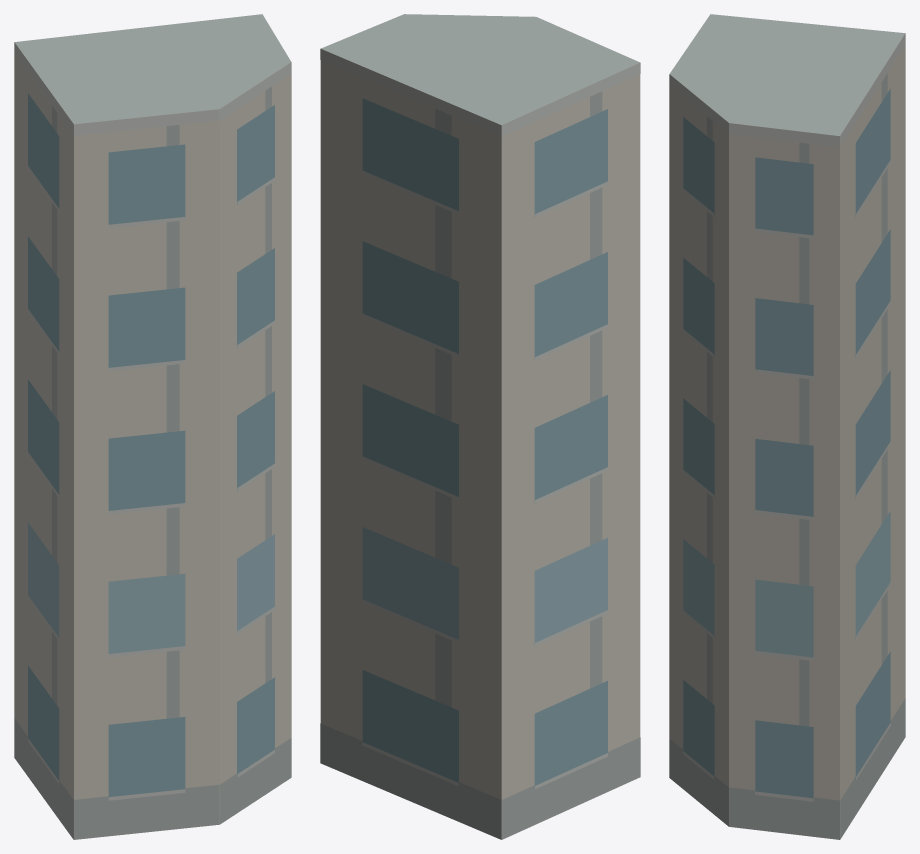
Rendered from survey-upis-32573957.glb.
The picture shows the model from 3 angles, left to right: view 1: azimuth 30°, elevation 25°; view 2: azimuth 150°, elevation 25°; view 3: azimuth 270°, elevation 25°; orthographic projection.
Parts seen in each view (by area): view 1: survey-upis-32573957.tmp; view 2: survey-upis-32573957.tmp; view 3: survey-upis-32573957.tmp.
Boxes of the visible parts, bbox=[...] form: survey-upis-32573957.tmp: bbox=[14, 14, 291, 839]; survey-upis-32573957.tmp: bbox=[320, 14, 640, 839]; survey-upis-32573957.tmp: bbox=[669, 14, 905, 839].
Bounding box in the file's own units: 5.69 × 15.25 × 4.65.
